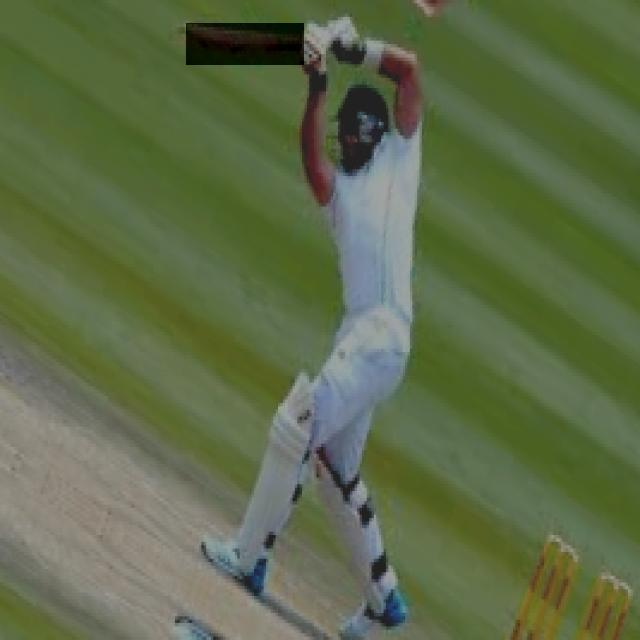bat: (186, 23, 303, 66)
